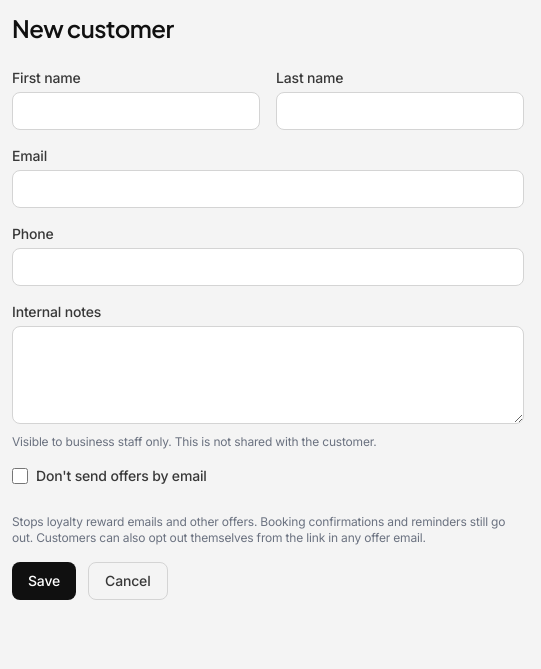
Test: CustomerForm — server rejections › shows a form-level message for a conflict
This screenshot has width=541, height=669.
Type "Oliver" into the field labelled "First name" at (136, 111), box [12,92,260,130]
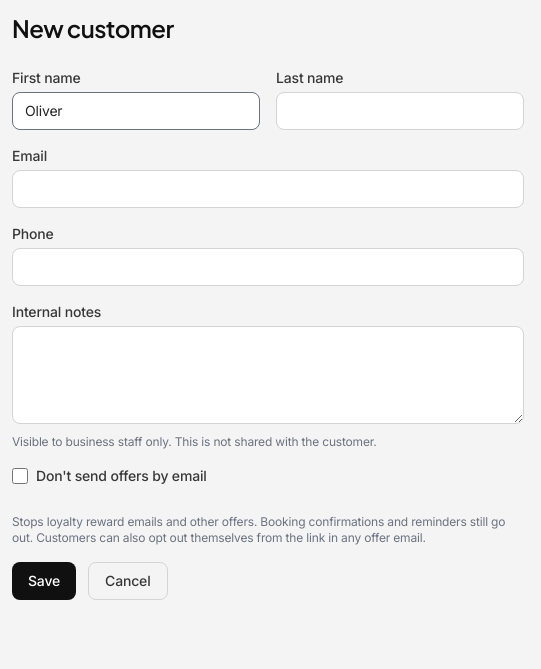
Type "Bennett" into the field labelled "Last name" at (400, 111), box [276,92,524,130]
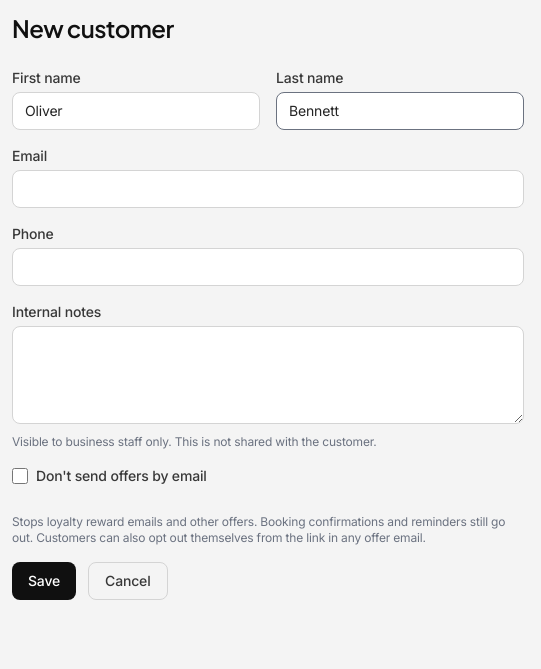
Click the button "Save" at (44, 581), box [12,562,76,600]
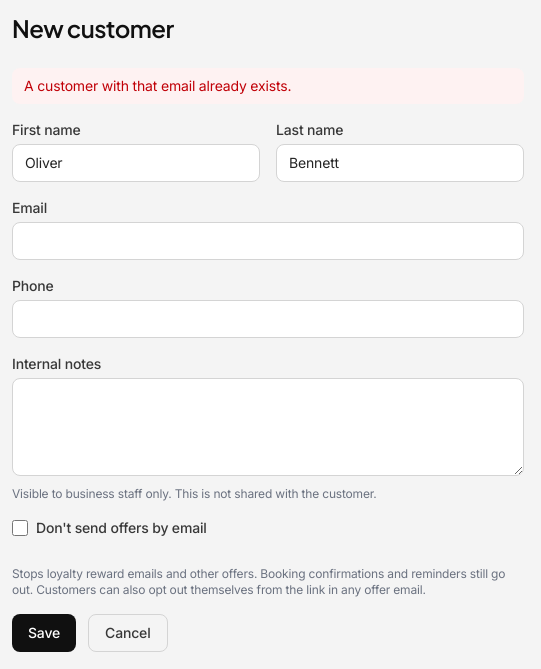
Check: the text "A customer with that email already exists." is shown, box [12,68,524,104]
